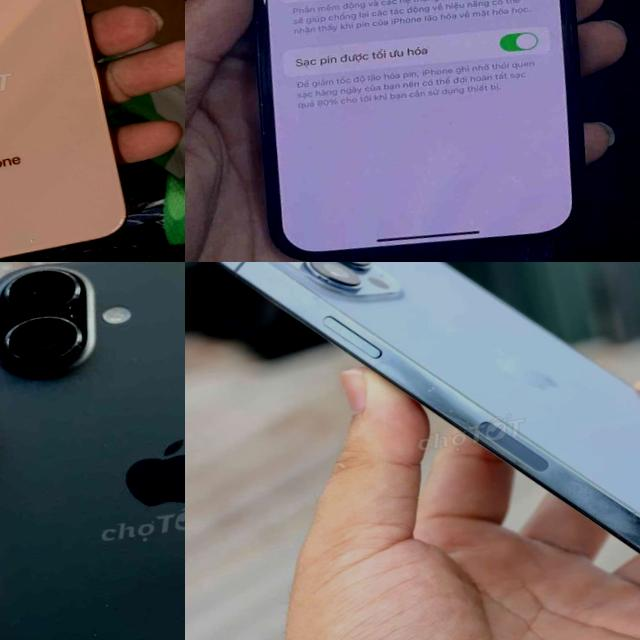gen_12_13: (199, 262, 640, 640)
gen_14: (198, 0, 637, 262)
gen_16: (0, 262, 185, 640)
gen_x_xs: (0, 0, 158, 262)
scratch: (11, 224, 52, 253)
